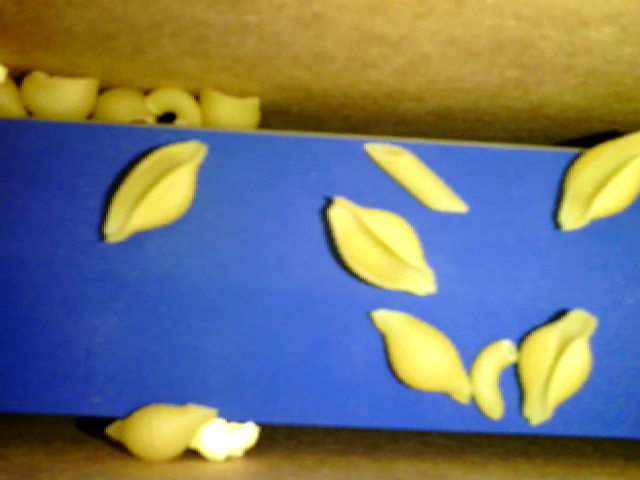elbow: (468, 338, 516, 419), (147, 86, 205, 127)
penne: (359, 141, 471, 213)
shell: (323, 193, 439, 297), (101, 137, 210, 244), (518, 307, 600, 426), (371, 309, 471, 405), (553, 127, 639, 231), (103, 401, 219, 462), (19, 71, 101, 122), (197, 84, 263, 131), (91, 84, 157, 125)
